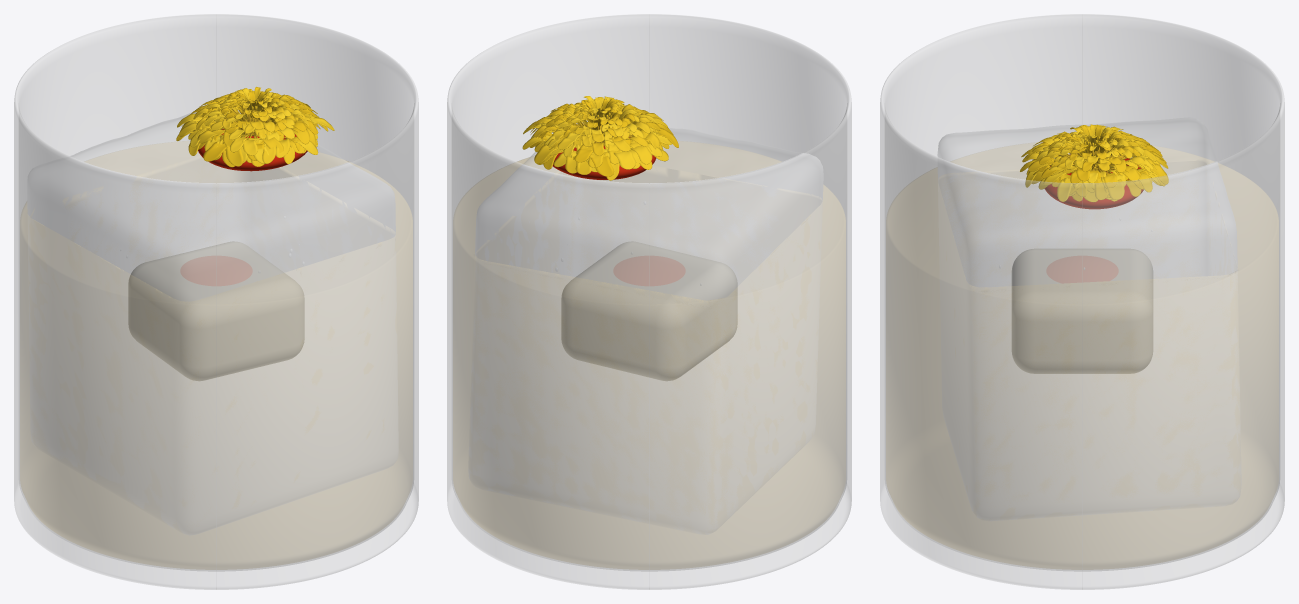
Rendered from ichigo-negroni.glb.
3 renders of one model, left to right at view 1: azimuth 30°, elevation 25°; view 2: azimuth 150°, elevation 25°; view 3: azimuth 270°, elevation 25°, orthographic.
Parts seen in each view (by area): view 1: glass, liquid, ice, recipe_bitter, recipe_modifiers, garnish_petal_00_01, garnish_petal_00_04, garnish_petal_00_02, garnish_petal_00_05, garnish_petal_00_07, garnish_petal_00_00, garnish_petal_00_06 (+1 smaller); view 2: glass, liquid, ice, recipe_bitter, garnish_petal_00_01, garnish_petal_00_07, recipe_modifiers, garnish_petal_00_02, garnish_petal_00_04, garnish_petal_00_05, garnish_petal_00_00, garnish_petal_00_06 (+1 smaller); view 3: glass, liquid, ice, recipe_bitter, garnish_petal_00_01, garnish_petal_00_04, recipe_modifiers, garnish_petal_00_07, garnish_petal_00_05, garnish_petal_00_06, garnish_petal_00_02, garnish_petal_00_00 (+1 smaller).
Part boxes in pixels (box(x1,y1,x2,y2)): glass: box(14, 14, 418, 589); liquid: box(20, 141, 412, 569); ice: box(27, 110, 395, 273); recipe_bitter: box(128, 241, 304, 380); recipe_modifiers: box(181, 256, 251, 285); garnish_petal_00_01: box(193, 87, 320, 166); garnish_petal_00_04: box(190, 91, 316, 161); garnish_petal_00_02: box(176, 95, 328, 163); garnish_petal_00_05: box(177, 91, 318, 163); garnish_petal_00_07: box(179, 89, 313, 162); garnish_petal_00_00: box(198, 89, 306, 167); garnish_petal_00_06: box(206, 88, 334, 163); glass: box(447, 14, 851, 589); liquid: box(453, 141, 845, 569); ice: box(475, 120, 823, 284); recipe_bitter: box(561, 241, 737, 380); garnish_petal_00_01: box(533, 103, 657, 174); garnish_petal_00_07: box(522, 98, 667, 167); recipe_modifiers: box(614, 256, 684, 285); garnish_petal_00_02: box(562, 97, 669, 180); garnish_petal_00_04: box(528, 99, 678, 176); garnish_petal_00_05: box(523, 97, 671, 172); garnish_petal_00_00: box(530, 98, 673, 169); garnish_petal_00_06: box(530, 96, 661, 157); glass: box(880, 14, 1284, 589); liquid: box(886, 142, 1278, 569); ice: box(937, 117, 1237, 287); recipe_bitter: box(1012, 249, 1152, 373); garnish_petal_00_01: box(1026, 126, 1168, 201); garnish_petal_00_04: box(1034, 125, 1162, 196); recipe_modifiers: box(1047, 256, 1117, 282); garnish_petal_00_07: box(1022, 125, 1160, 192); garnish_petal_00_05: box(1025, 126, 1160, 202); garnish_petal_00_06: box(1023, 125, 1153, 201); garnish_petal_00_02: box(1020, 124, 1168, 199); garnish_petal_00_00: box(1028, 125, 1161, 197).
Bounding box in the file's own units: 2 × 2.22 × 2.
